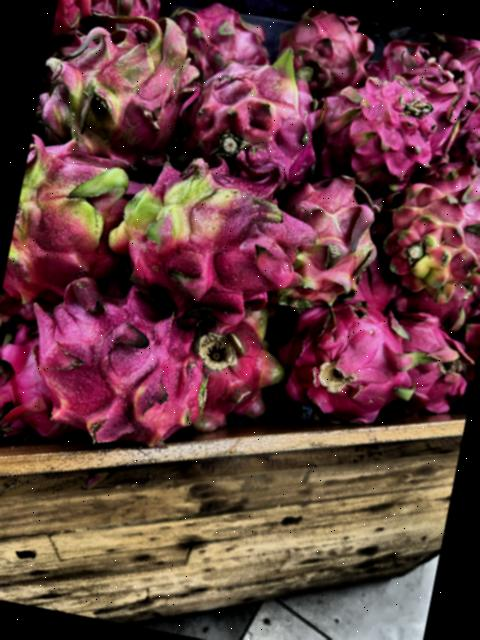buah-naga-belum-matang: (108, 147, 326, 321), (0, 126, 148, 318), (34, 2, 198, 172), (182, 42, 326, 198), (269, 165, 389, 322), (381, 176, 480, 297)
buah-naga-matang: (17, 272, 226, 464), (273, 285, 425, 430), (165, 298, 296, 429), (309, 68, 436, 194), (379, 48, 475, 158), (384, 310, 480, 414), (272, 2, 378, 90), (161, 0, 277, 73), (419, 138, 480, 220), (78, 0, 172, 41), (442, 36, 480, 109), (453, 97, 480, 176)
